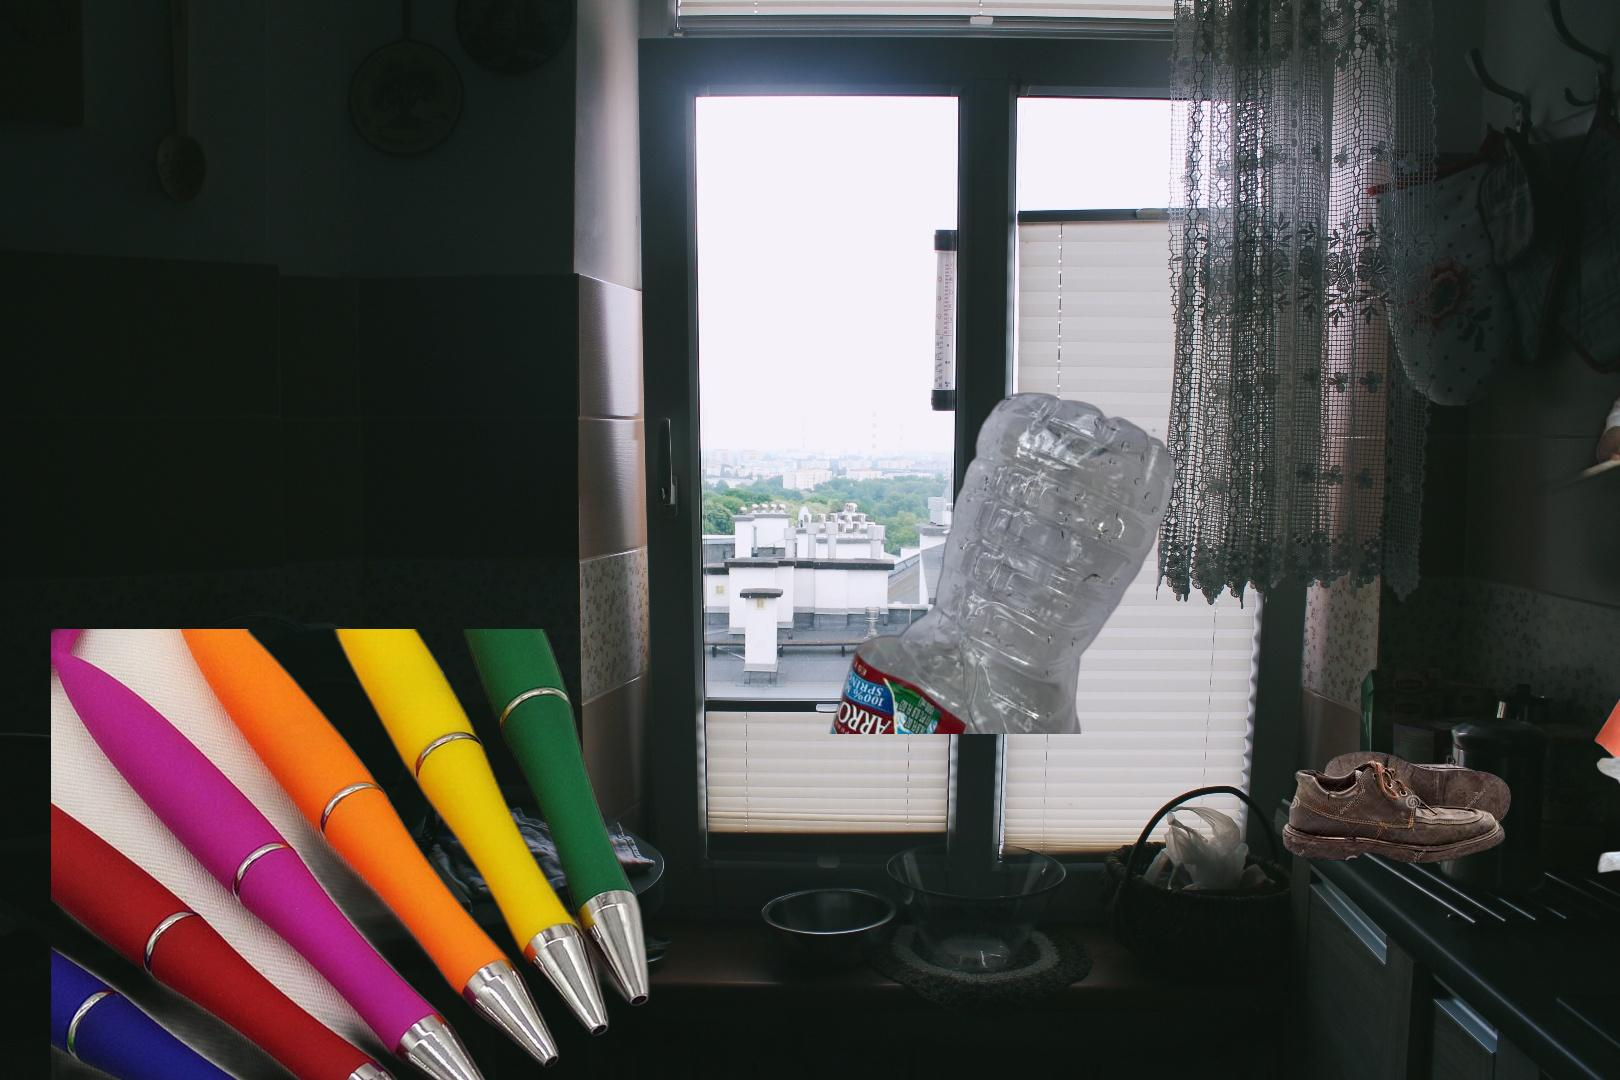biological: (648, 847, 1398, 1080)
penholder: (51, 629, 656, 1080)
plastic-bag: (1593, 674, 1620, 876)
plastic-bottles: (826, 389, 1180, 734)
shoes: (1279, 749, 1513, 865)
trashbox-cardboard: (1534, 264, 1620, 499)
